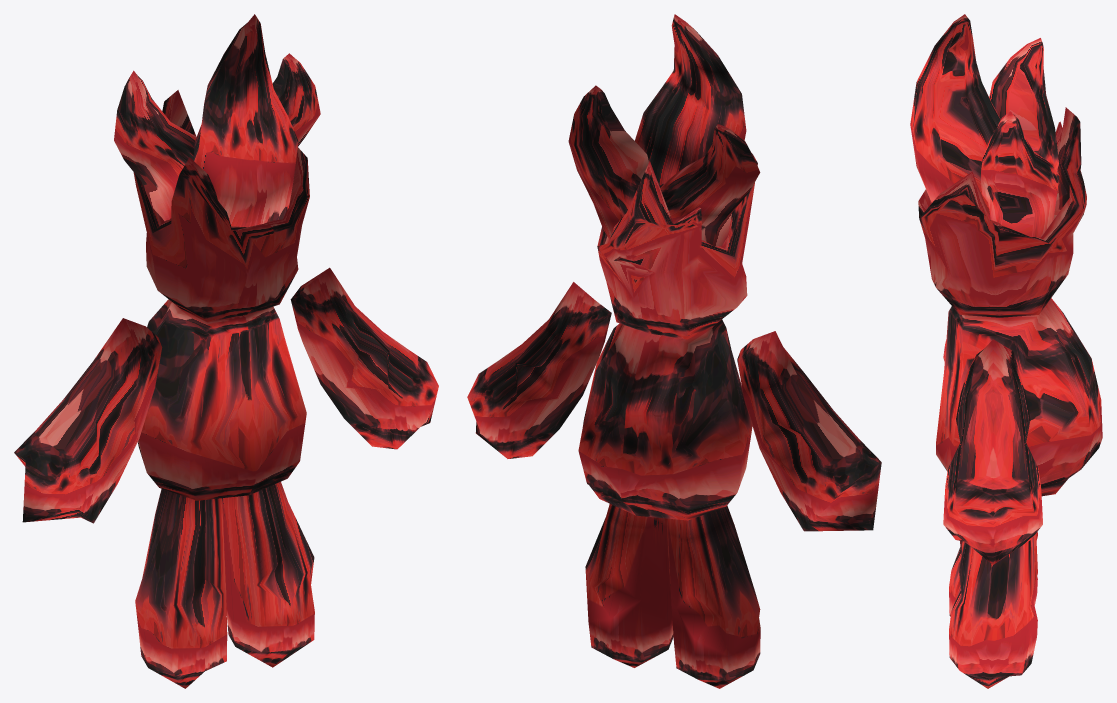
The model's file is mvr_petmgm2501-et02.glb.
3 renders of one model, left to right at view 1: azimuth 30°, elevation 25°; view 2: azimuth 150°, elevation 25°; view 3: azimuth 270°, elevation 25°, orthographic. The views are drawn at different scales.
Visible parts, largest first — view 1: MonsterMesh; view 2: MonsterMesh; view 3: MonsterMesh.
Boxes of the visible parts, x1,y1,x2,y2 form: MonsterMesh: (14, 14, 438, 688); MonsterMesh: (467, 14, 881, 688); MonsterMesh: (910, 14, 1102, 688).
Size of the model in its own units: 0.6735 by 1.06 by 0.2791.
Materials: 1 (1 with a texture image).
